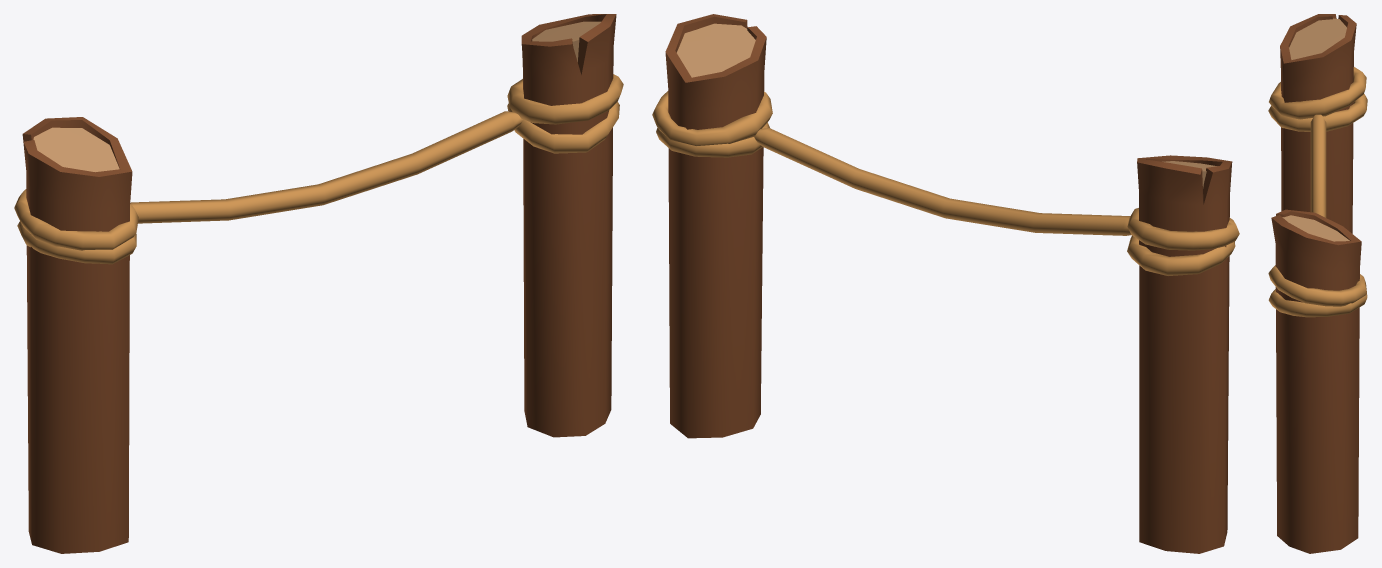
The model's file is Fence_A.fbx.
3 views of the same model, side by side, from view 1: azimuth 30°, elevation 25°; view 2: azimuth 150°, elevation 25°; view 3: azimuth 270°, elevation 25° (orthographic). The views are drawn at different scales.
Parts seen in each view (by area): view 1: Fence_A; view 2: Fence_A; view 3: Fence_A.
Boxes of the visible parts, <box> form: Fence_A: <box>14,14,623,553</box>; Fence_A: <box>652,14,1239,553</box>; Fence_A: <box>1268,14,1367,553</box>.
Size of the model in its own units: 184 by 119 by 33.43.
